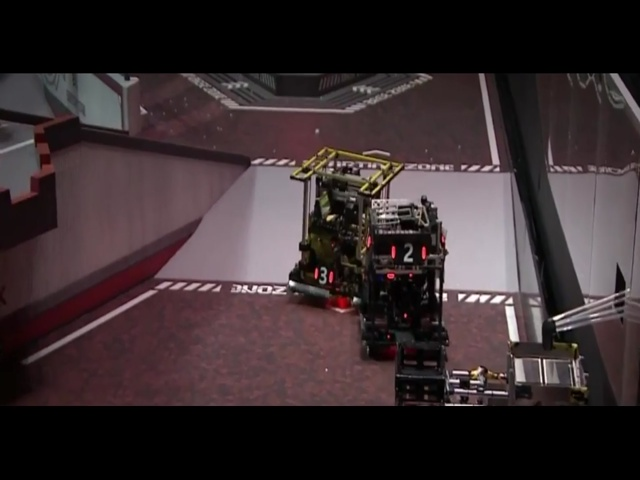bluePlate: (303, 313, 326, 339), (210, 200, 237, 221), (188, 274, 206, 296), (159, 274, 172, 294), (339, 199, 352, 216)
redPlate: (250, 294, 285, 319), (366, 214, 380, 235), (339, 220, 356, 236)
